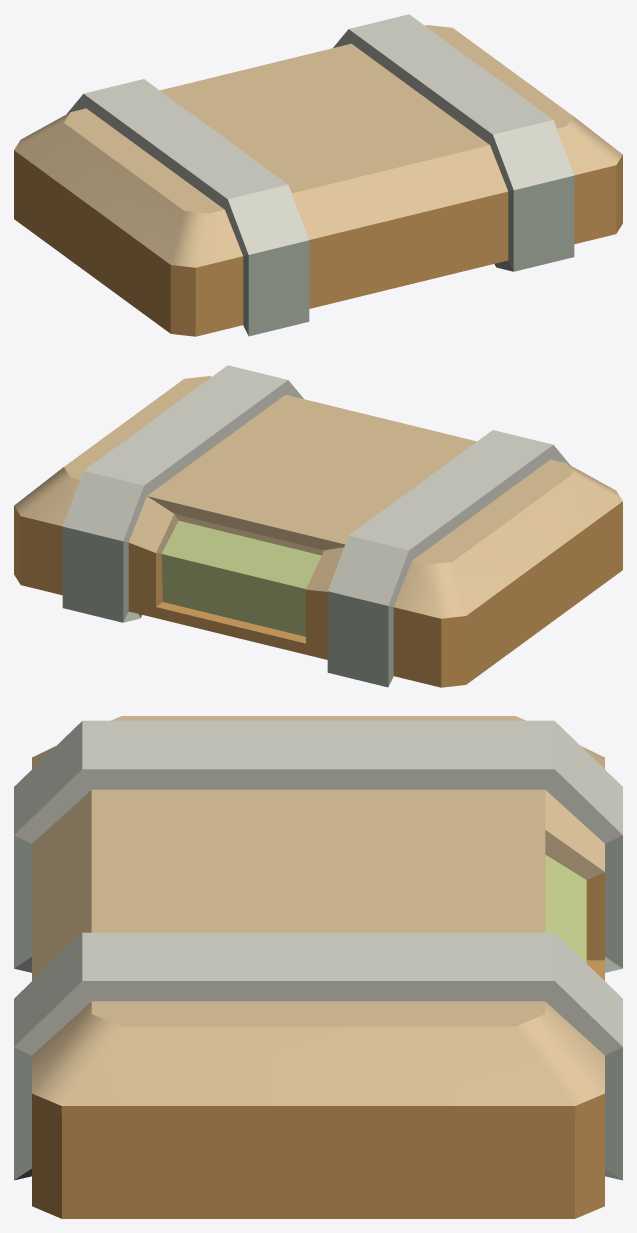
The model's file is chestTop.fbx.
3 views of the same model, one above another, from view 1: azimuth 30°, elevation 25°; view 2: azimuth 150°, elevation 25°; view 3: azimuth 270°, elevation 25° (orthographic). The views are drawn at different scales.
Parts seen in each view (by area): view 1: chestTop; view 2: chestTop; view 3: chestTop.
Boxes of the visible parts, box(x1,y1,x2,y2) form: chestTop: box(14, 14, 622, 336); chestTop: box(14, 365, 622, 687); chestTop: box(14, 716, 622, 1218).
Bounding box in the file's own units: 234 × 61.28 × 167.
